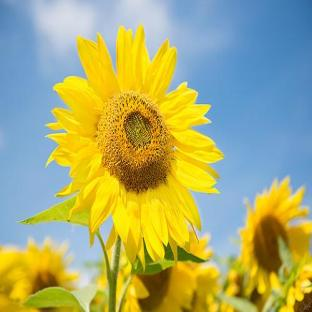sunflower: (19, 24, 225, 312)
